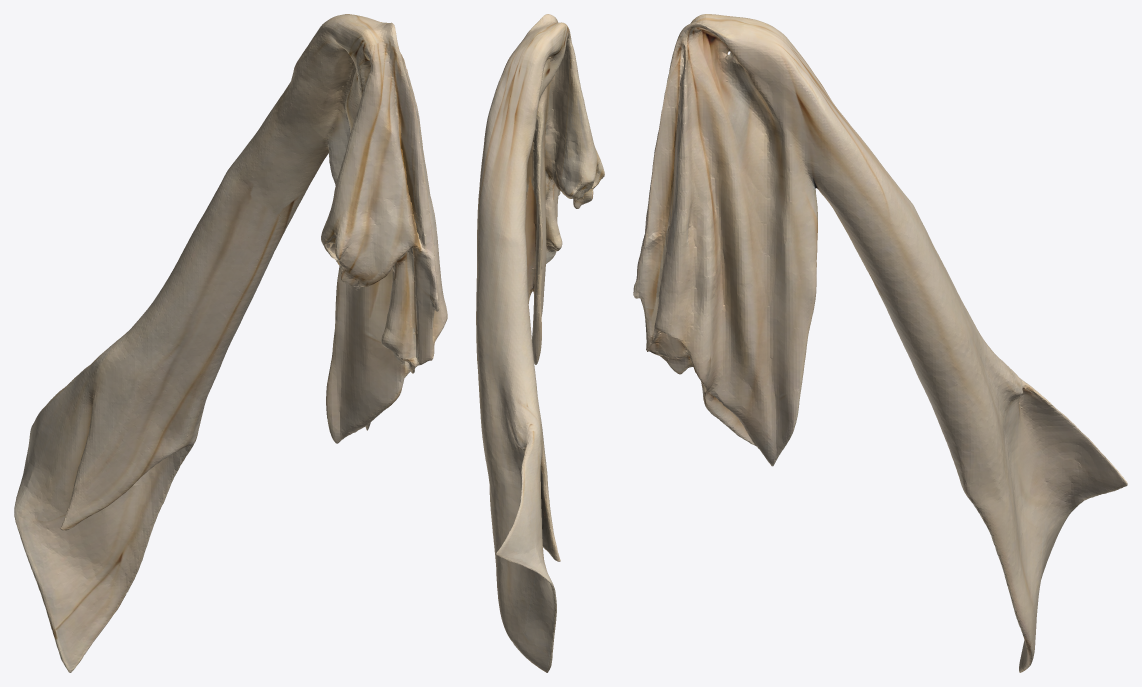
Rendered from cloth.fbx.
The picture shows the model from 3 angles, left to right: view 1: azimuth 30°, elevation 25°; view 2: azimuth 150°, elevation 25°; view 3: azimuth 270°, elevation 25°; orthographic projection. The views are drawn at different scales.
Parts seen in each view (by area): view 1: temp; view 2: temp; view 3: temp.
Boxes of the visible parts, x1,y1,x2,y2 form: temp: (14, 14, 447, 672); temp: (476, 14, 604, 672); temp: (633, 14, 1127, 672).
Size of the model in its own units: 66.12 by 198 by 122.
1 material, 1 textured.
